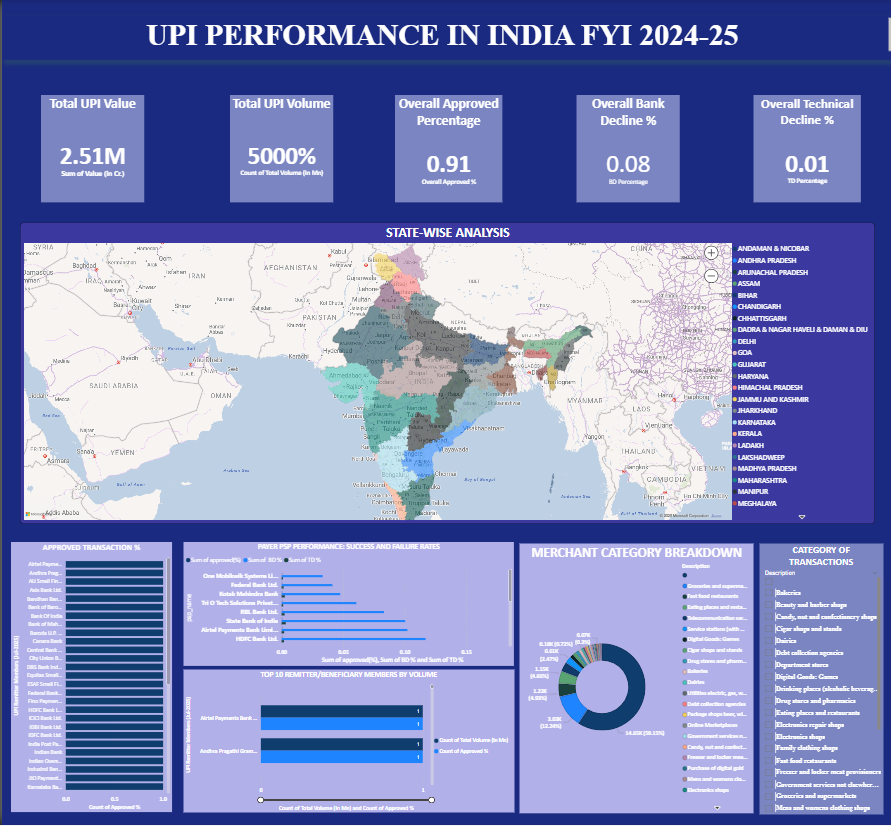

What the dashboard file says about the page in this screenshot:
{"tool":"powerbi","page":{"name":"Page 1","canvas":[2160,2000],"ordinal":0},"visuals":[{"type":"card","title":"Total UPI Volume","fields":{"Values":["CountNonNull(cleaned_upi_remitter.Total Volume (In Mn))"]},"box":[552.5,232.5,250,260],"z":0},{"type":"card","title":"Total UPI Value","fields":{"Values":["Sum(cleaned_upi_state.Value (in Cr.))"]},"box":[93.3,233.3,250,260],"z":1000},{"type":"card","title":"Overall Approved Percentage","fields":{"Values":["cleaned_upi_merchant.Overall Approved %"]},"box":[950,232.5,260,260],"z":2000},{"type":"card","title":"Overall Bank Decline %","fields":{"Values":["cleaned_upi_merchant.BD Percentage"]},"box":[1390,232.5,250,260],"z":3000},{"type":"card","title":"Overall Technical Decline %","fields":{"Values":["cleaned_upi_merchant.TD Percentage"]},"box":[1820,232.5,260,260],"z":4000},{"type":"filledMap","title":"STATE-WISE ANALYSIS","fields":{"Category":["cleaned_upi_state.State / Union Territory"],"Series":["cleaned_upi_state.State / Union Territory"]},"box":[45,540,2070,730],"z":5000},{"type":"clusteredBarChart","title":"TOP 10 REMITTER/BENEFICIARY MEMBERS BY VOLUME","fields":{"Category":["cleaned_upi_remitter.UPI Remitter Members (Jul-2025)"],"Y":["CountNonNull(cleaned_upi_remitter.Total Volume (In Mn))","CountNonNull(cleaned_upi_remitter.Approved %)"]},"box":[438,1624,800,346],"z":6000},{"type":"clusteredBarChart","title":"APPROVED TRANSACTION %","fields":{"Category":["cleaned_upi_remitter.UPI Remitter Members (Jul-2025)"],"Y":["CountNonNull(cleaned_upi_remitter.Approved %)"]},"box":[20,1316,390,654],"z":7000},{"type":"clusteredBarChart","title":"PAYER PSP PERFORMANCE: SUCCESS AND FAILURE RATES","fields":{"Category":["cleaned_upi_psp.psp_name"],"Y":["Sum(cleaned_upi_psp.approved(%))","Sum(cleaned_upi_psp. BD %)","Sum(cleaned_upi_psp.TD %)"]},"box":[438,1316,800,300],"z":8000},{"type":"donutChart","title":"MERCHANT CATEGORY BREAKDOWN","fields":{"Category":["cleaned_upi_merchant.Description"],"Y":["Sum(cleaned_upi_merchant.Volume (Mn))"]},"box":[1253.3,1316.7,566.7,653.3],"z":9000},{"type":"slicer","title":"CATEGORY OF TRANSACTIONS","fields":{"Values":["cleaned_upi_merchant.Description"]},"box":[1835.4,1316.9,298.5,653.8],"z":10000},{"type":"textbox","box":[0,40.5,2159.5,108.1],"z":11000}]}

Visuals, with their boxes in screenshot pixels (x1, y1, x2, y2), scaled from the page's 2160x2000 canvas onto the 891x826 screenshot:
"Total UPI Volume" card: 228 96 331 203
"Total UPI Value" card: 38 96 142 204
"Overall Approved Percentage" card: 392 96 499 203
"Overall Bank Decline %" card: 573 96 676 203
"Overall Technical Decline %" card: 751 96 858 203
"STATE-WISE ANALYSIS" filledMap: 19 223 872 525
"TOP 10 REMITTER/BENEFICIARY MEMBERS BY VOLUME" clusteredBarChart: 181 671 511 814
"APPROVED TRANSACTION %" clusteredBarChart: 8 544 169 814
"PAYER PSP PERFORMANCE: SUCCESS AND FAILURE RATES" clusteredBarChart: 181 544 511 667
"MERCHANT CATEGORY BREAKDOWN" donutChart: 517 544 751 814
"CATEGORY OF TRANSACTIONS" slicer: 757 544 880 814
textbox: 0 17 890 61
